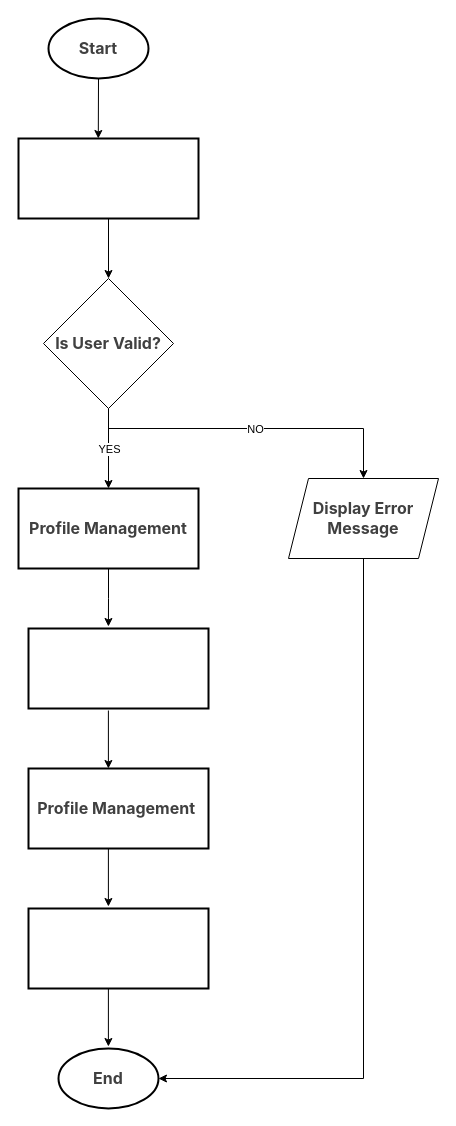
Image size: 456x1126. Some labels were removed from this diagram. Here are the shapes that lost their labels. From the top down, the centre of each, then its label:
[108,178]: User Registration & Login
[118,668]: Homeowner Path or Maid Path
[118,948]: Admin Path
